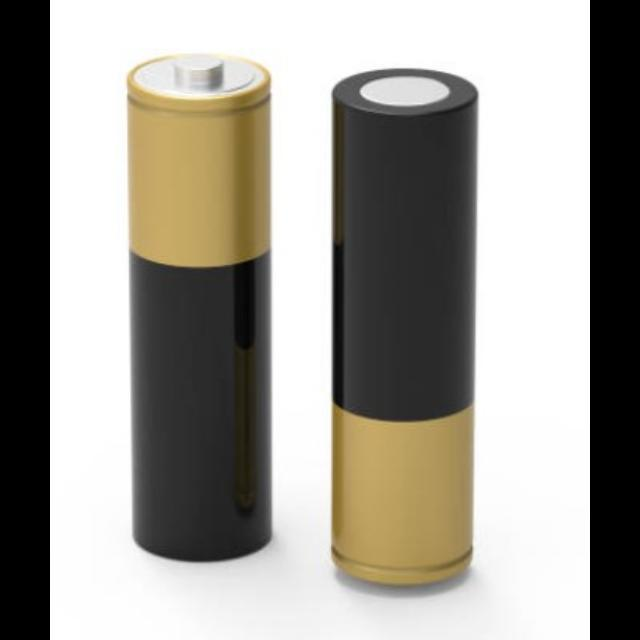Battery: (333, 68, 479, 586), (127, 54, 272, 560)
